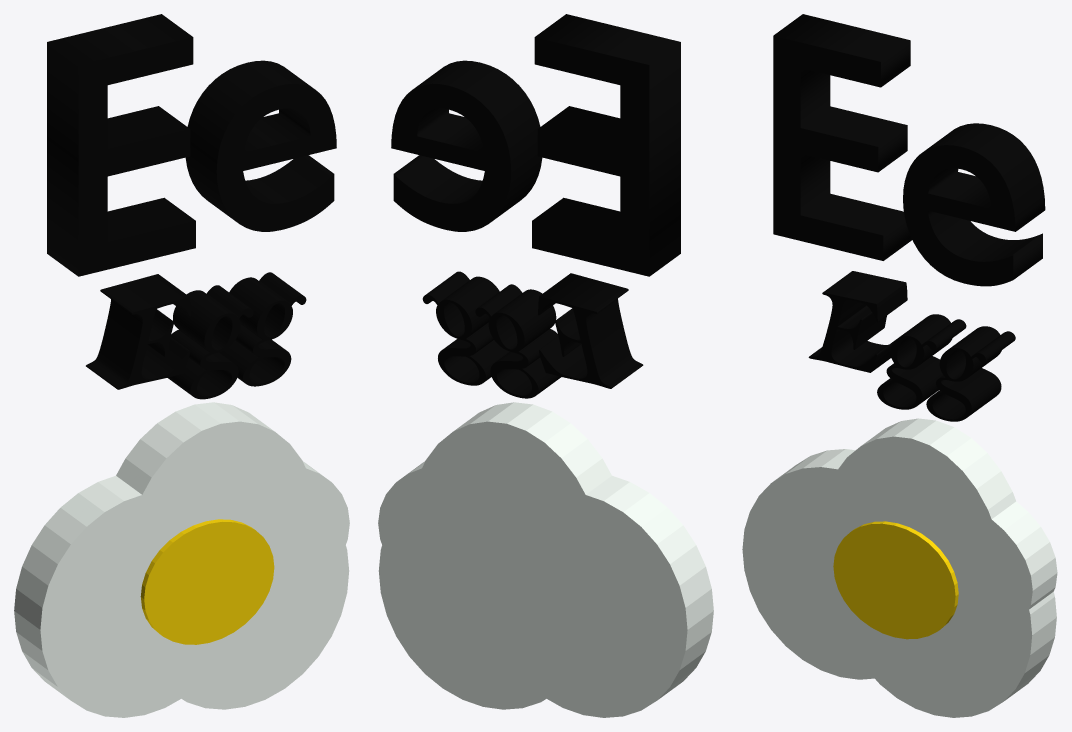
File: Letter_E.glb
3 views of the same model, side by side, from view 1: azimuth 30°, elevation 25°; view 2: azimuth 150°, elevation 25°; view 3: azimuth 330°, elevation 25° (orthographic). The views are drawn at different scales.
Parts seen in each view (by area): view 1: Text, Cylinder.001, Cylinder.002, Cylinder, Text.001, Cylinder.004, Cylinder.003; view 2: Text, Cylinder.001, Cylinder, Text.001, Cylinder.002, Cylinder.003; view 3: Text, Cylinder.001, Cylinder, Text.001, Cylinder.002, Cylinder.004, Cylinder.003.
Part boxes in pixels (x1,y1,x2,y2): Text: (47,14,336,276); Cylinder.001: (14,475,235,717); Cylinder.002: (142,483,349,709); Cylinder: (116,402,316,678); Text.001: (86,272,306,399); Cylinder.004: (140,519,274,644); Cylinder.003: (140,461,349,629); Text: (391,14,680,276); Cylinder.001: (481,475,713,717); Cylinder: (410,402,611,678); Text.001: (422,271,643,398); Cylinder.002: (378,483,558,709); Cylinder.003: (378,461,578,632); Text: (773,14,1045,286); Cylinder.001: (742,449,929,679); Cylinder: (820,418,1015,677); Text.001: (808,271,1015,421); Cylinder.002: (836,505,1056,717); Cylinder.004: (833,521,958,639); Cylinder.003: (836,487,1057,645).
Bounding box in the file's own units: 0.6787 × 1.44 × 0.1229.
